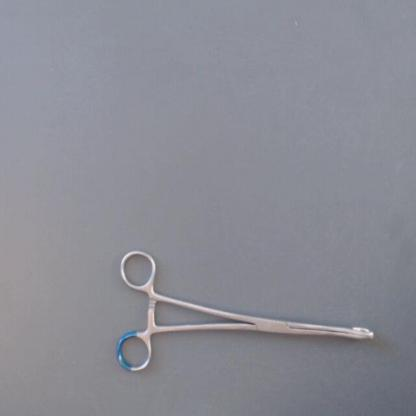Sponge Forceps: (110, 240, 380, 376)
